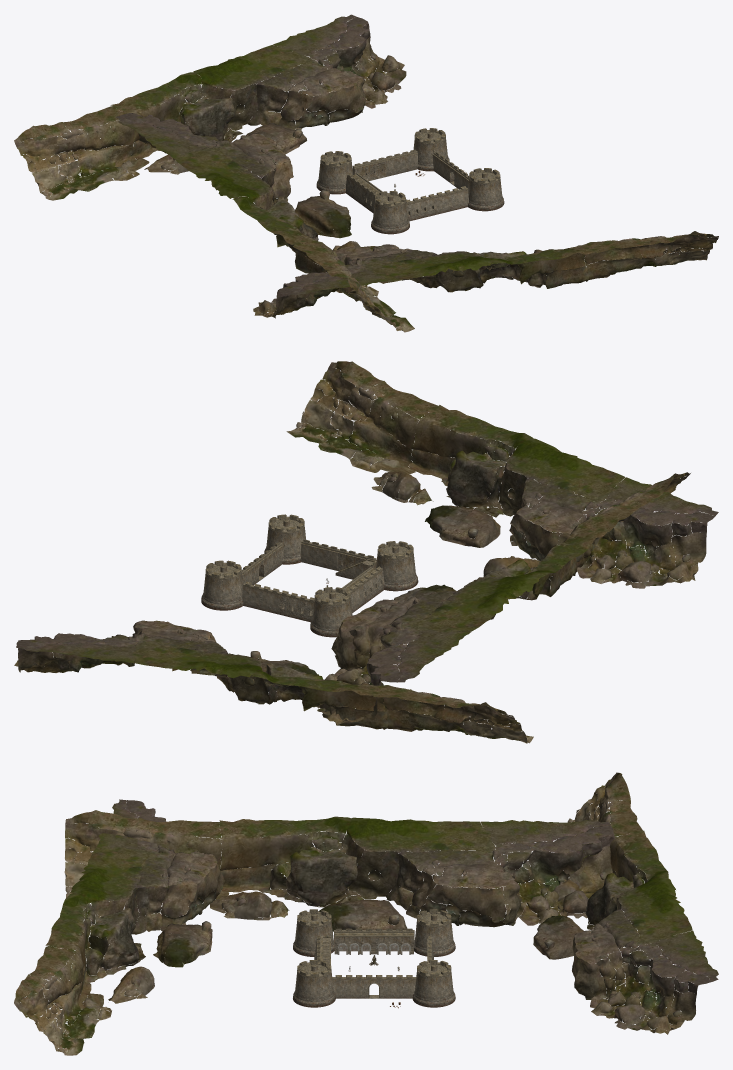
The model's file is western-fort-desktop.glb.
The picture shows the model from 3 angles, top to bottom: view 1: azimuth 30°, elevation 25°; view 2: azimuth 150°, elevation 25°; view 3: azimuth 270°, elevation 25°; orthographic projection. The views are drawn at different scales.
Parts seen in each view (by area): view 1: western-fort-desktop / coastal_cliff_04, western-fort-desktop / modular_fort_01_wall_1; view 2: western-fort-desktop / coastal_cliff_04, western-fort-desktop / modular_fort_01_wall_1; view 3: western-fort-desktop / coastal_cliff_04, western-fort-desktop / modular_fort_01_wall_1, western-fort-desktop / modular_fort_01_wall_1.001.
Part boxes in pixels (left/top/right/bottom): western-fort-desktop / coastal_cliff_04: left=14, top=14, right=718, bottom=332; western-fort-desktop / modular_fort_01_wall_1: left=316, top=128, right=504, bottom=234; western-fort-desktop / coastal_cliff_04: left=14, top=361, right=718, bottom=743; western-fort-desktop / modular_fort_01_wall_1: left=201, top=514, right=418, bottom=637; western-fort-desktop / coastal_cliff_04: left=14, top=772, right=718, bottom=1055; western-fort-desktop / modular_fort_01_wall_1: left=293, top=909, right=455, bottom=1007; western-fort-desktop / modular_fort_01_wall_1.001: left=334, top=933, right=413, bottom=954.
Bounding box in the file's own units: 206 × 26.44 × 259.
11 materials, 11 textured.
